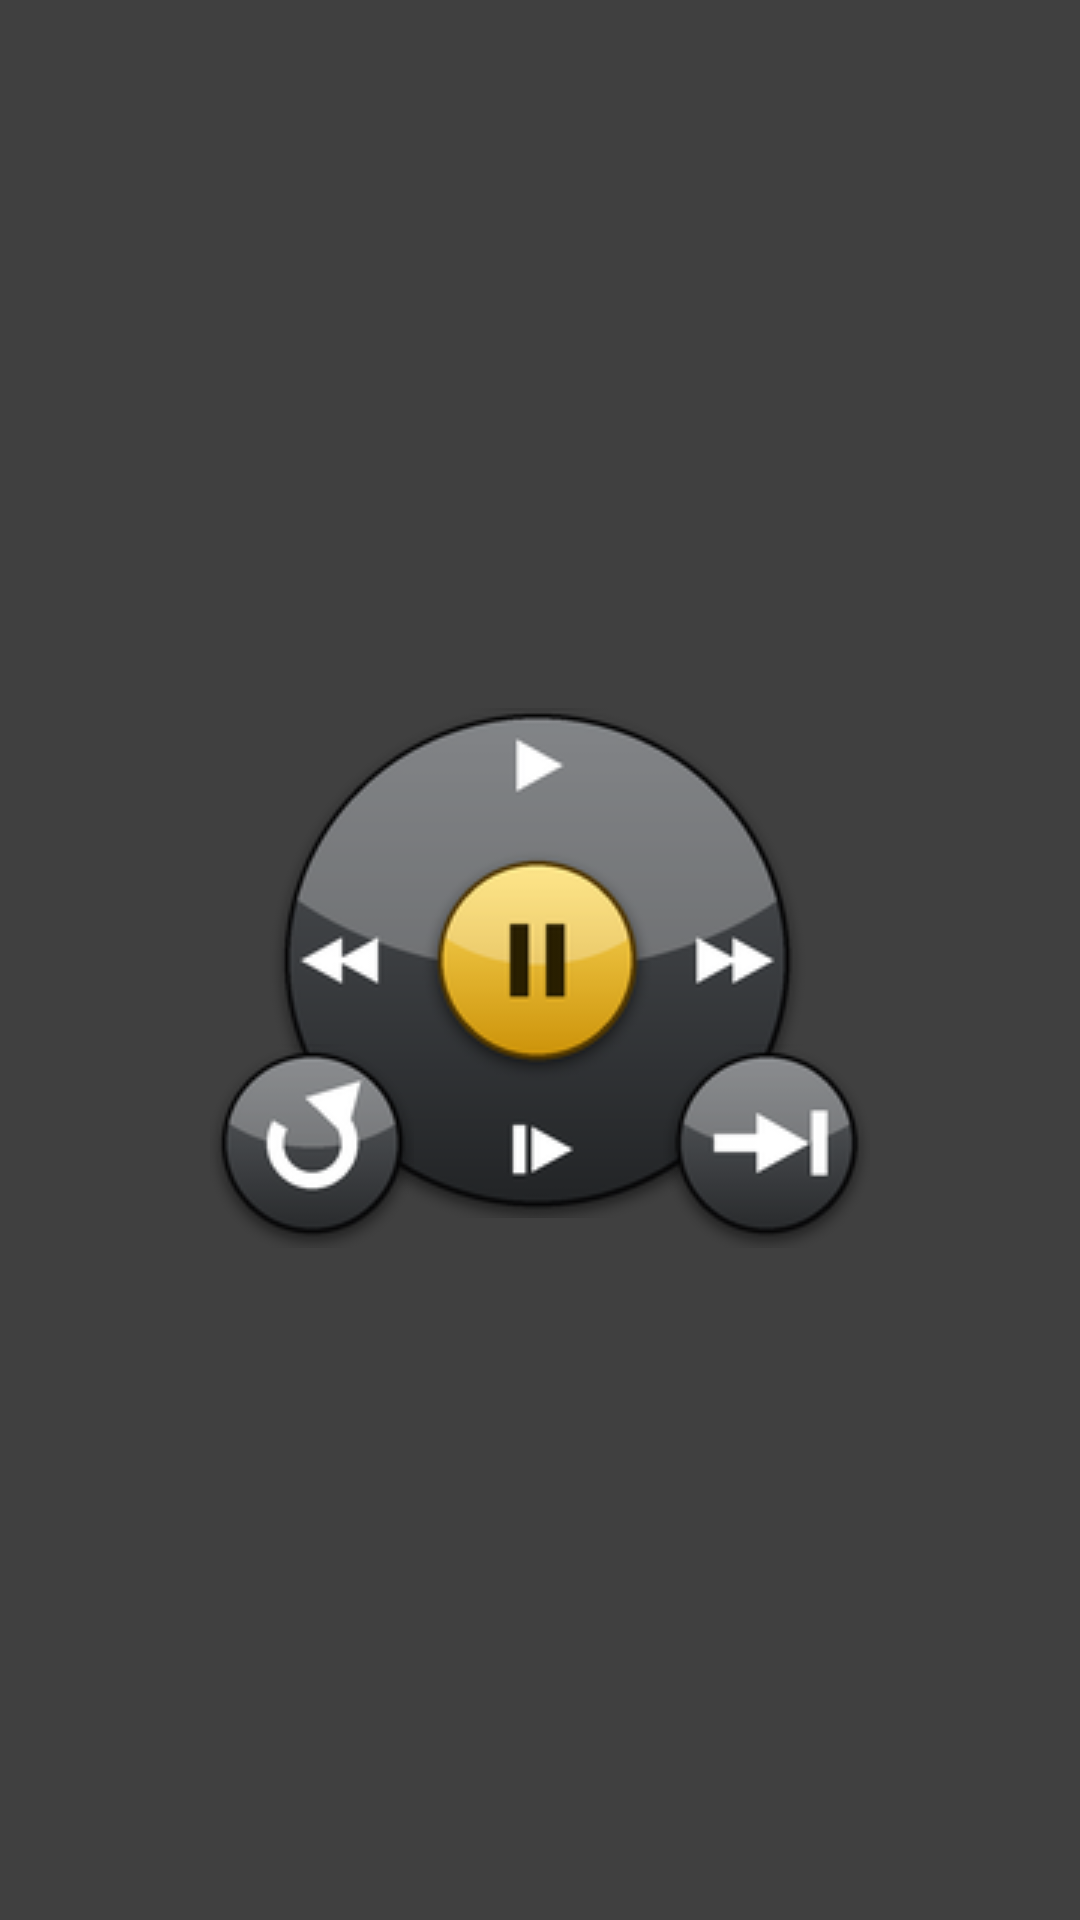

Named icons in this screenshot (1080 x 1920) and their centers, (x,y):
Advance: (763,1144)
Replay: (315,1144)
